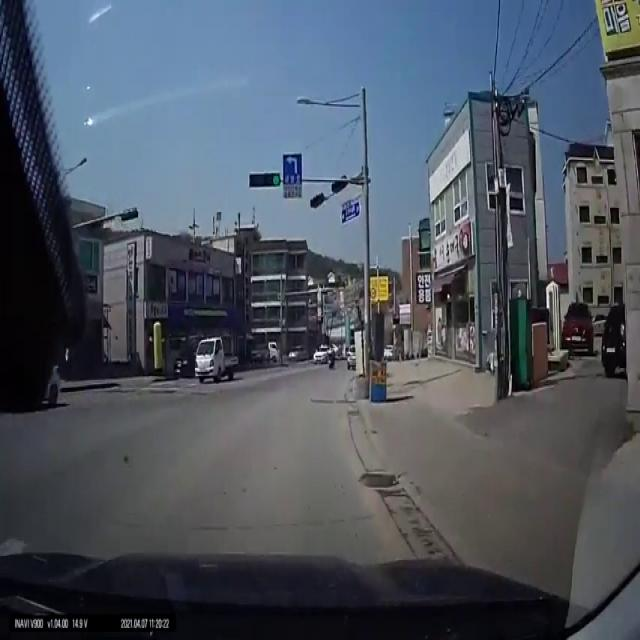Pothole: (358, 469, 401, 491)
